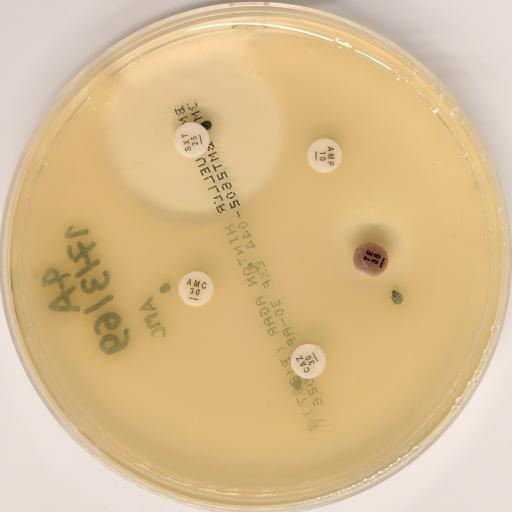disc: (173, 121, 209, 157), (306, 138, 342, 172), (178, 271, 214, 305), (290, 343, 324, 378), (353, 242, 387, 276)
